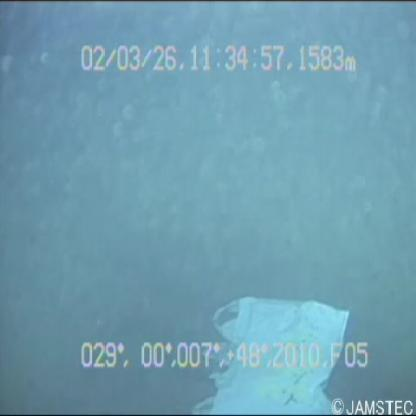Rác: (194, 274, 353, 416)
